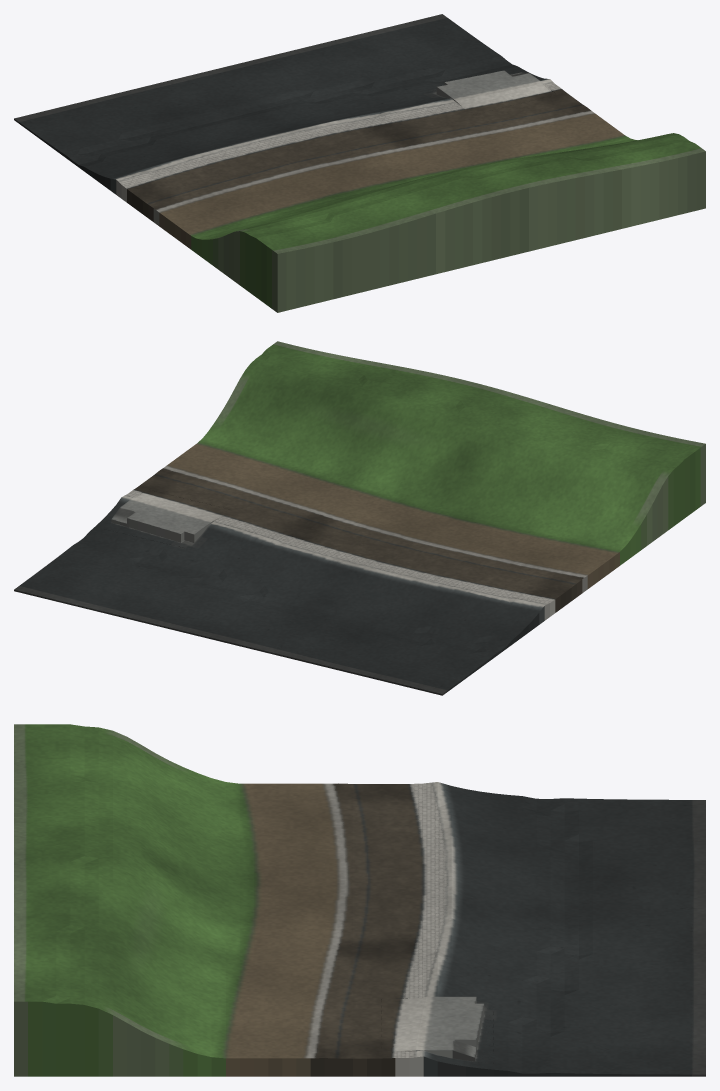
The model's file is harbour_ground_1960.fbx.
3 views of the same model, one above another, from view 1: azimuth 30°, elevation 25°; view 2: azimuth 150°, elevation 25°; view 3: azimuth 270°, elevation 25° (orthographic). The views are drawn at different scales.
Parts seen in each view (by area): view 1: harbour_ground_1960; view 2: harbour_ground_1960; view 3: harbour_ground_1960.
Part boxes in pixels (x1,y1,x2,y2): harbour_ground_1960: (14, 14, 705, 312); harbour_ground_1960: (14, 341, 705, 695); harbour_ground_1960: (14, 724, 705, 1076).
Size of the model in its own units: 9200 by 1310 by 9800.
